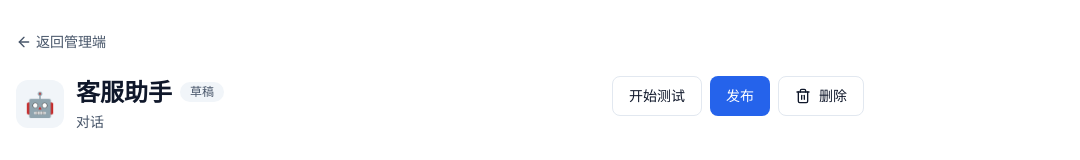
AgentDetailPage start-testing action › reports a stale state without the conflict dialog for 409 INVALID_STATE
This screenshot has width=1080, height=160.
Click the button "开始测试": (657, 96) [612, 76, 702, 116]
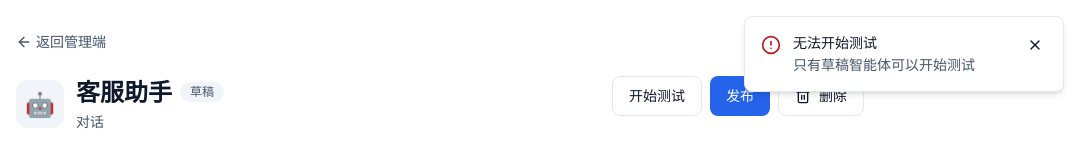
Result: the text "只有草稿智能体可以开始测试" is shown at [793, 55, 975, 74]
